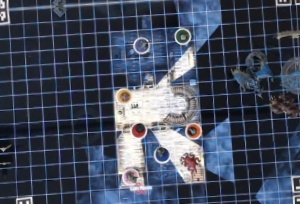blue: (149, 142, 171, 164)
green: (171, 25, 193, 44)
orange: (182, 121, 203, 140)
pink: (119, 166, 141, 188)
red: (130, 121, 148, 138)
violet: (129, 33, 151, 55)
yellow: (112, 84, 132, 103)
